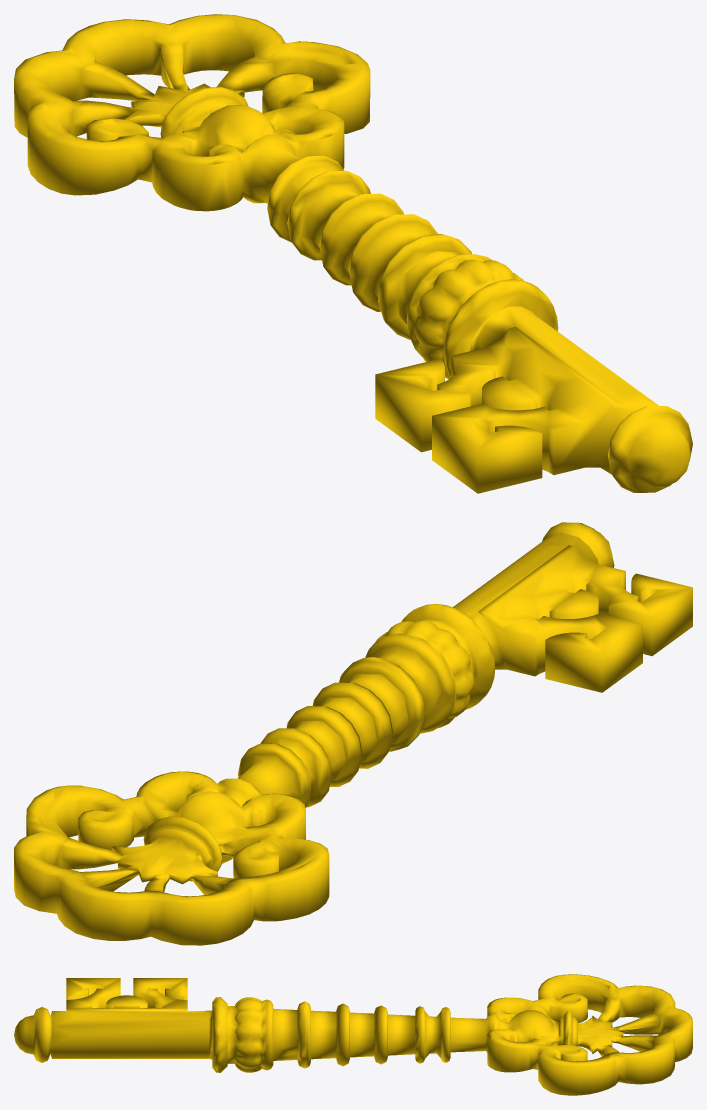
File: Key.fbx
3 renders of one model, top to bottom at view 1: azimuth 30°, elevation 25°; view 2: azimuth 150°, elevation 25°; view 3: azimuth 270°, elevation 25°, orthographic. The views are drawn at different scales.
Parts seen in each view (by area): view 1: keys.001; view 2: keys.001; view 3: keys.001.
Boxes of the visible parts, x1=… form: keys.001: x1=14, y1=14, x2=692, y2=493; keys.001: x1=14, y1=522, x2=692, y2=945; keys.001: x1=14, y1=974, x2=692, y2=1095.
Bounding box in the file's own units: 9.6 × 3.34 × 29.79.
